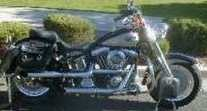motorcycle: (6, 7, 203, 103)
